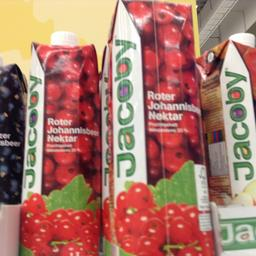juice: (105, 0, 214, 254), (20, 30, 102, 255)
